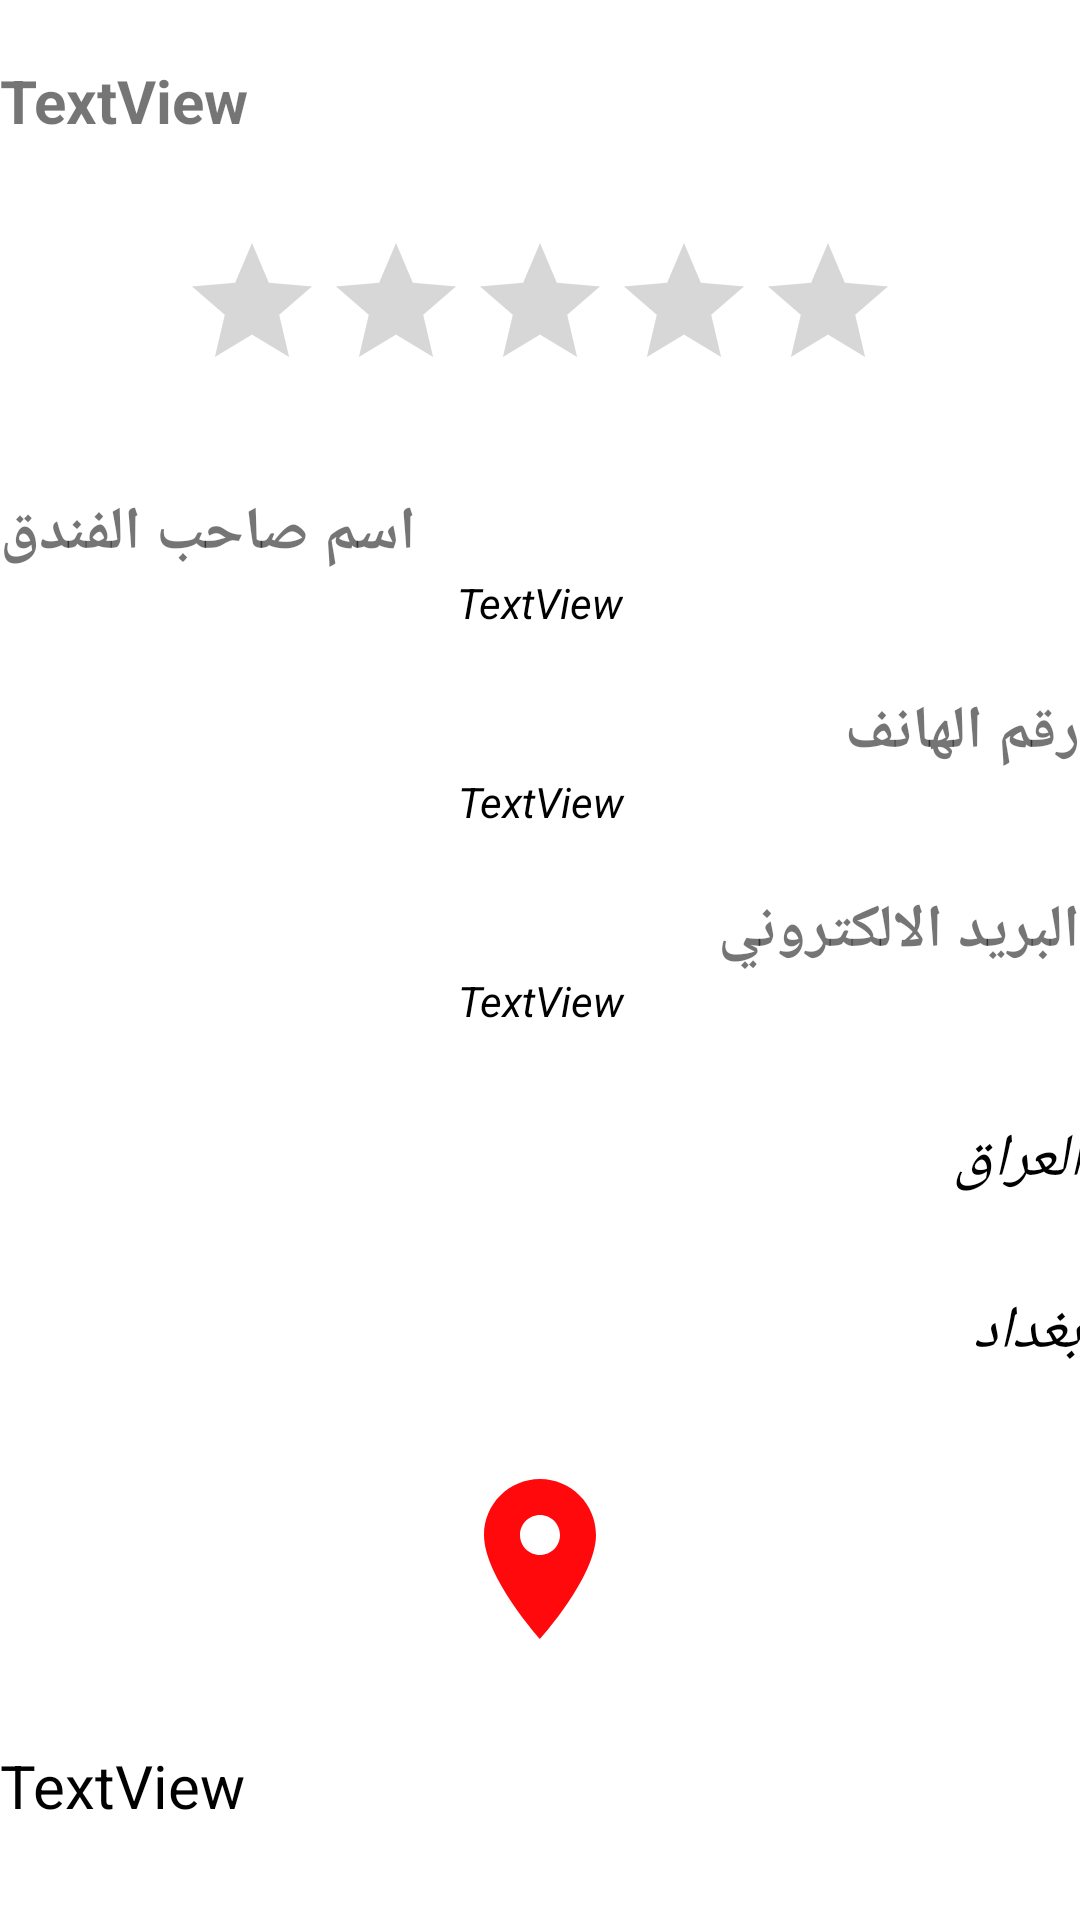

Icons on this 1080×1920 Android screen, each with the point to tap as (x=x, y=y):
location: (x=540, y=1559)
